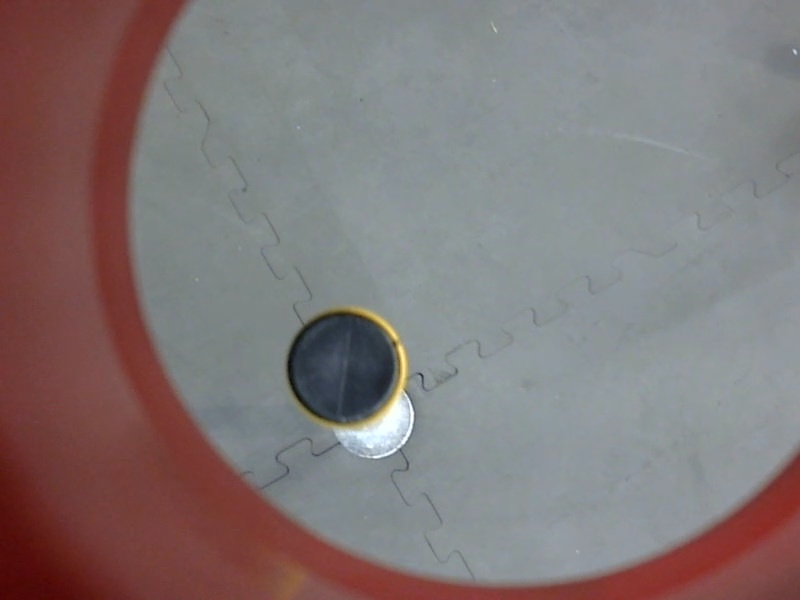tip: (278, 298, 416, 439)
